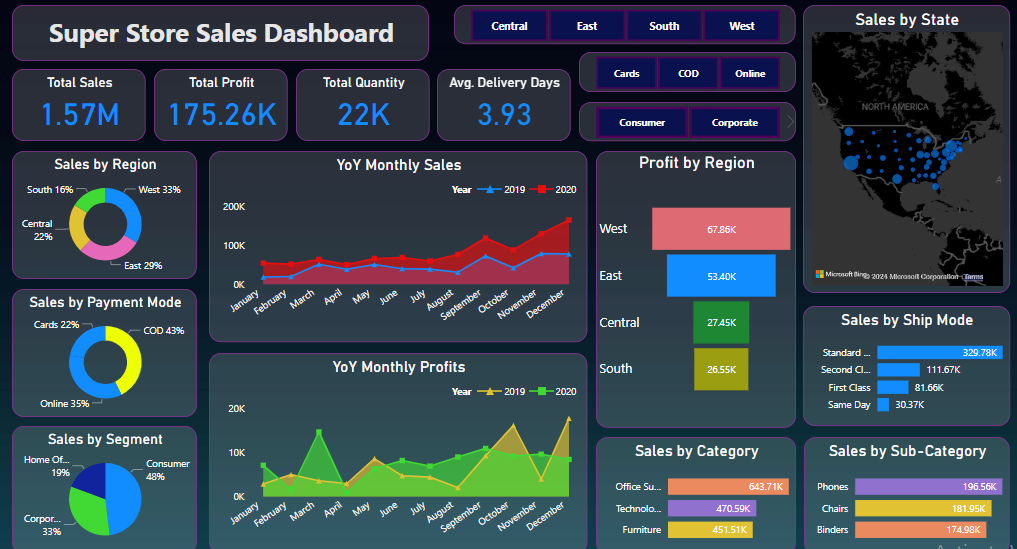

This screenshot's page, from the dashboard's own definition file:
{"tool":"powerbi","page":{"name":"Sales Dashboard","canvas":[1280,720],"ordinal":0},"visuals":[{"type":"clusteredBarChart","title":"Sales by Category","fields":{"Category":["SuperStore_Sales_Dataset.Category"],"Y":["Sum(SuperStore_Sales_Dataset.Sales)"]},"box":[751.4,557.1,250,147.1],"z":0},{"type":"clusteredBarChart","title":"Sales by Sub-Category","fields":{"Y":["Sum(SuperStore_Sales_Dataset.Sales)"],"Category":["SuperStore_Sales_Dataset.Sub-Category"]},"box":[1011.4,557.1,257.1,147.1],"z":1000},{"type":"clusteredBarChart","title":"Sales by Ship Mode","fields":{"Y":["Sum(SuperStore_Sales_Dataset.Sales)"],"Category":["SuperStore_Sales_Dataset.Ship Mode"]},"box":[1010,394.3,258.6,150],"z":2000},{"type":"areaChart","title":"YoY Monthly Sales","fields":{"Category":["SuperStore_Sales_Dataset.Order Date.Variation.Date Hierarchy.Month","SuperStore_Sales_Dataset.Order Date.Variation.Date Hierarchy.Day"],"Y":["Sum(SuperStore_Sales_Dataset.Sales)"],"Series":["SuperStore_Sales_Dataset.Order Date.Variation.Date Hierarchy.Year"]},"box":[267.1,200,472.9,238.6],"z":3000},{"type":"areaChart","title":"YoY Monthly Profits","fields":{"Category":["SuperStore_Sales_Dataset.Order Date.Variation.Date Hierarchy.Month","SuperStore_Sales_Dataset.Order Date.Variation.Date Hierarchy.Day"],"Series":["SuperStore_Sales_Dataset.Order Date.Variation.Date Hierarchy.Year"],"Y":["Sum(SuperStore_Sales_Dataset.Profit)"]},"box":[267.1,452.9,472.9,251.4],"z":4000},{"type":"map","title":"Sales by State","fields":{"Category":["SuperStore_Sales_Dataset.State"],"Size":["Sum(SuperStore_Sales_Dataset.Sales)"]},"box":[1010,17.1,258.6,360],"z":5000},{"type":"pieChart","title":"Sales by Segment","fields":{"Category":["SuperStore_Sales_Dataset.Segment"],"Y":["Sum(SuperStore_Sales_Dataset.Sales)"]},"box":[21.4,544.3,231.4,160],"z":6000},{"type":"donutChart","title":"Sales by Region","fields":{"Y":["Sum(SuperStore_Sales_Dataset.Sales)"],"Category":["SuperStore_Sales_Dataset.Region"]},"box":[21.4,200,231.4,160],"z":7000},{"type":"donutChart","title":"Sales by Payment Mode","fields":{"Y":["Sum(SuperStore_Sales_Dataset.Sales)"],"Category":["SuperStore_Sales_Dataset.Payment Mode"]},"box":[21.4,372.9,231.4,160],"z":8000},{"type":"slicer","fields":{"Values":["SuperStore_Sales_Dataset.Region"]},"box":[574.3,17.1,427.1,48.6],"z":9000},{"type":"textbox","box":[21.4,17.1,521.4,70],"z":10000},{"type":"funnel","title":"Profit by Region","fields":{"Category":["SuperStore_Sales_Dataset.Region"],"Y":["Sum(SuperStore_Sales_Dataset.Profit)"]},"box":[751.4,200,250,345.7],"z":11000},{"type":"card","title":"Total Sales","fields":{"Values":["Sum(SuperStore_Sales_Dataset.Sales)"]},"box":[21.4,97.1,167.1,90],"z":12000},{"type":"card","title":"Total Quantity","fields":{"Values":["Sum(SuperStore_Sales_Dataset.Quantity)"]},"box":[375.7,97.1,167.1,90],"z":13000},{"type":"card","title":"Total Profit","fields":{"Values":["Sum(SuperStore_Sales_Dataset.Profit)"]},"box":[198.6,97.1,167.1,90],"z":14000},{"type":"slicer","fields":{"Values":["SuperStore_Sales_Dataset.Payment Mode"]},"box":[730,75.7,271.4,50],"z":15000},{"type":"slicer","fields":{"Values":["SuperStore_Sales_Dataset.Segment"]},"box":[730,138.6,271.4,48.6],"z":16000},{"type":"card","title":"Avg. Delivery Days","fields":{"Values":["Avg(SuperStore_Sales_Dataset.Avg Delivery)"]},"box":[552.9,97.1,167.1,90],"z":17000}]}

Visuals, with their boxes on the page's 1280x720 design canvas (x1, y1, x2, y2). These are canvas units, not pixel positions in the 1017x549 screenshot, which may show the page scaled, cropped or inside an application window:
"Sales by Category" clusteredBarChart: <box>751,557,1001,704</box>
"Sales by Sub-Category" clusteredBarChart: <box>1011,557,1268,704</box>
"Sales by Ship Mode" clusteredBarChart: <box>1010,394,1269,544</box>
"YoY Monthly Sales" areaChart: <box>267,200,740,439</box>
"YoY Monthly Profits" areaChart: <box>267,453,740,704</box>
"Sales by State" map: <box>1010,17,1269,377</box>
"Sales by Segment" pieChart: <box>21,544,253,704</box>
"Sales by Region" donutChart: <box>21,200,253,360</box>
"Sales by Payment Mode" donutChart: <box>21,373,253,533</box>
slicer - SuperStore_Sales_Dataset.Region: <box>574,17,1001,66</box>
textbox: <box>21,17,543,87</box>
"Profit by Region" funnel: <box>751,200,1001,546</box>
"Total Sales" card: <box>21,97,188,187</box>
"Total Quantity" card: <box>376,97,543,187</box>
"Total Profit" card: <box>199,97,366,187</box>
slicer - SuperStore_Sales_Dataset.Payment Mode: <box>730,76,1001,126</box>
slicer - SuperStore_Sales_Dataset.Segment: <box>730,139,1001,187</box>
"Avg. Delivery Days" card: <box>553,97,720,187</box>
